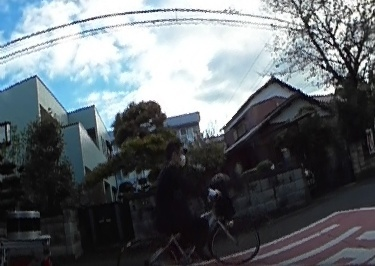person: (149, 139, 218, 266)
